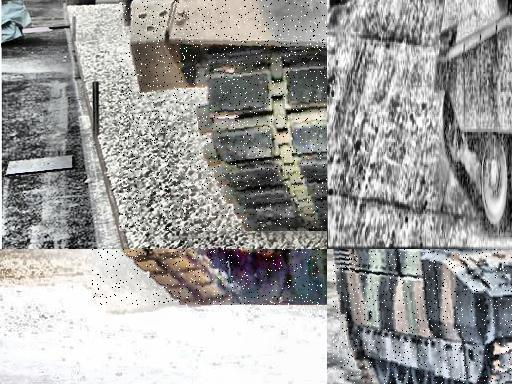tanks: (125, 1, 328, 231), (335, 250, 512, 384), (436, 1, 512, 225), (125, 250, 328, 306), (331, 2, 345, 6)
